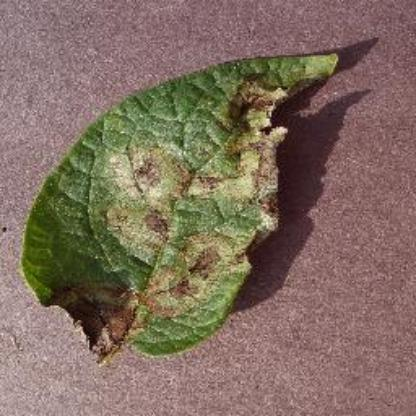Late-Blight: (19, 46, 344, 366)
